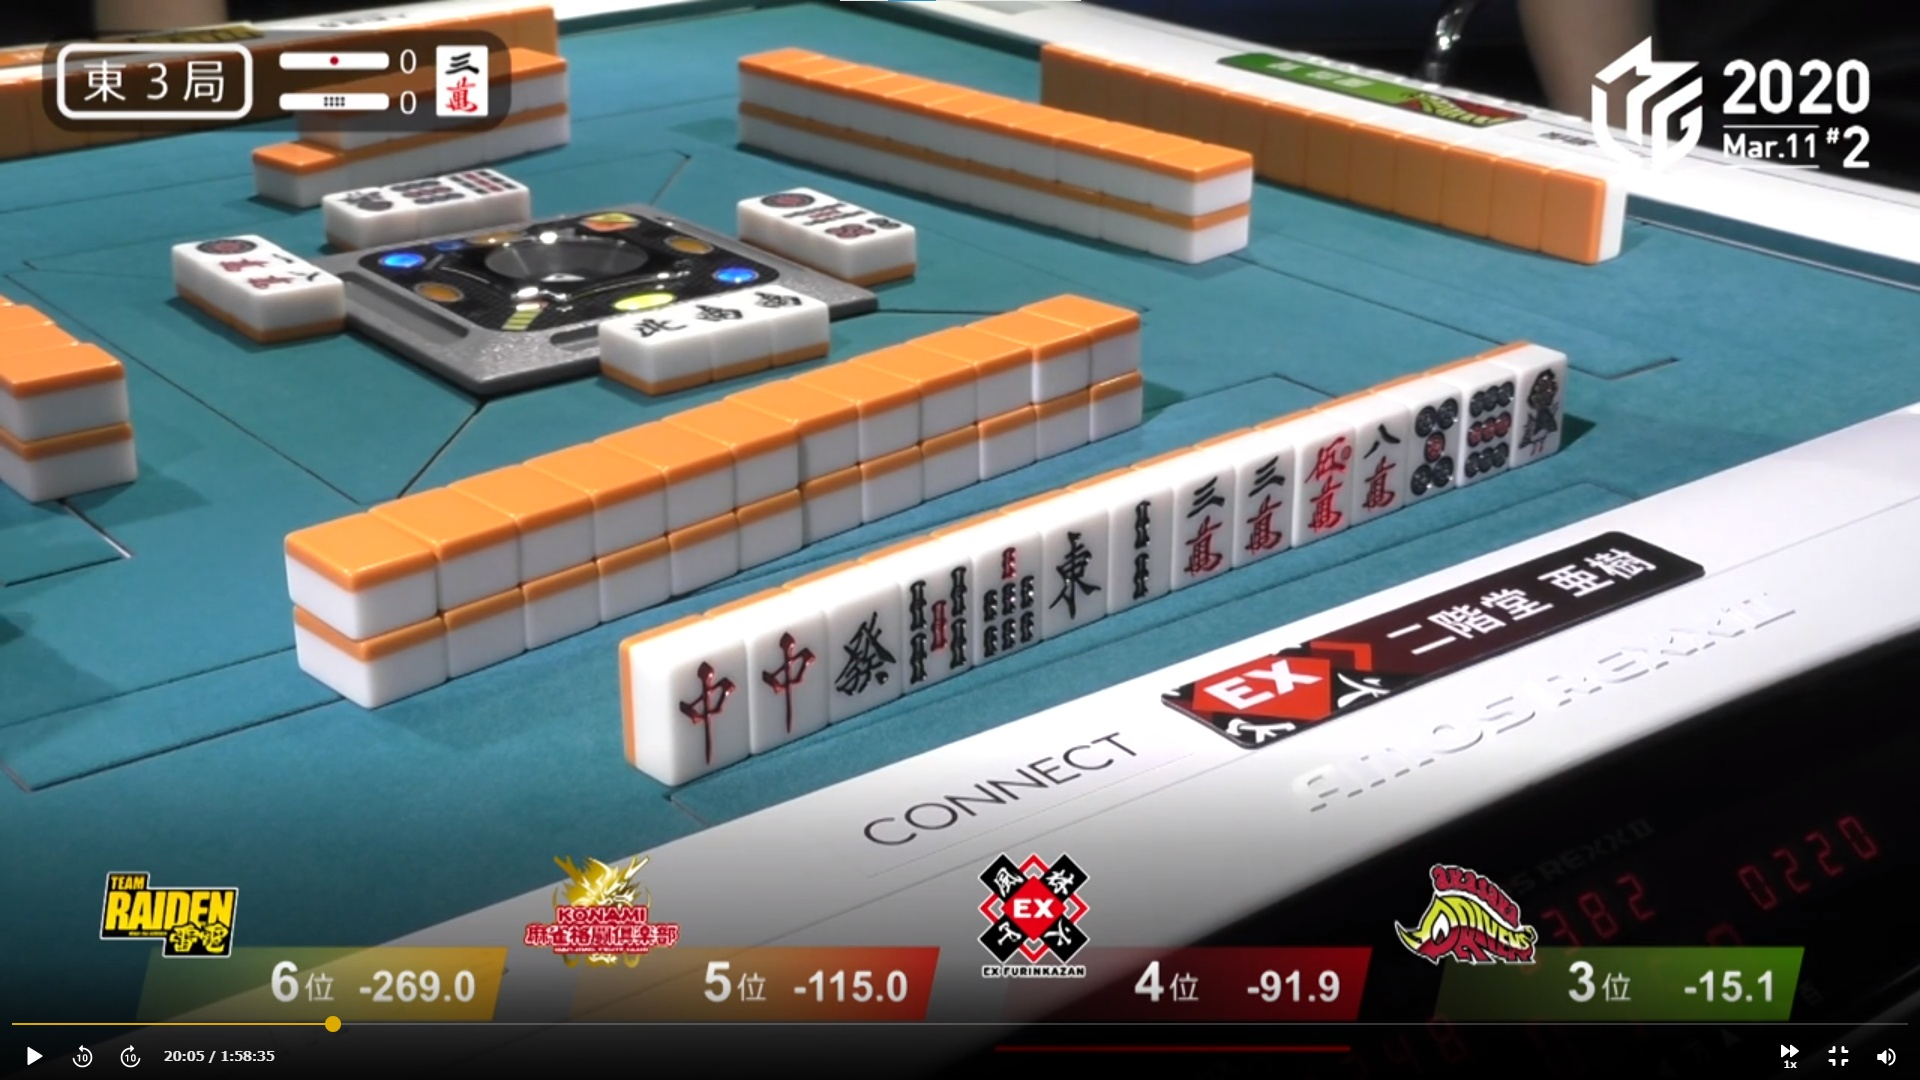1s: (1516, 352, 1557, 462)
2s: (1104, 487, 1171, 609)
3m: (1229, 444, 1288, 574), (1171, 465, 1225, 591)
5mr: (1294, 415, 1356, 549)
5p: (1399, 392, 1458, 496)
5s: (903, 545, 971, 684)
6p: (1462, 375, 1509, 483)
7s: (977, 537, 1038, 657)
8m: (1360, 407, 1396, 517)
chun: (665, 649, 738, 775), (748, 601, 814, 737)
hand_ton_3: (51, 38, 261, 123)
hatsu: (828, 576, 898, 709)
round_0: (266, 86, 419, 117)
team_exfurinkazan: (1156, 615, 1447, 745)
ton: (1042, 516, 1102, 636)
